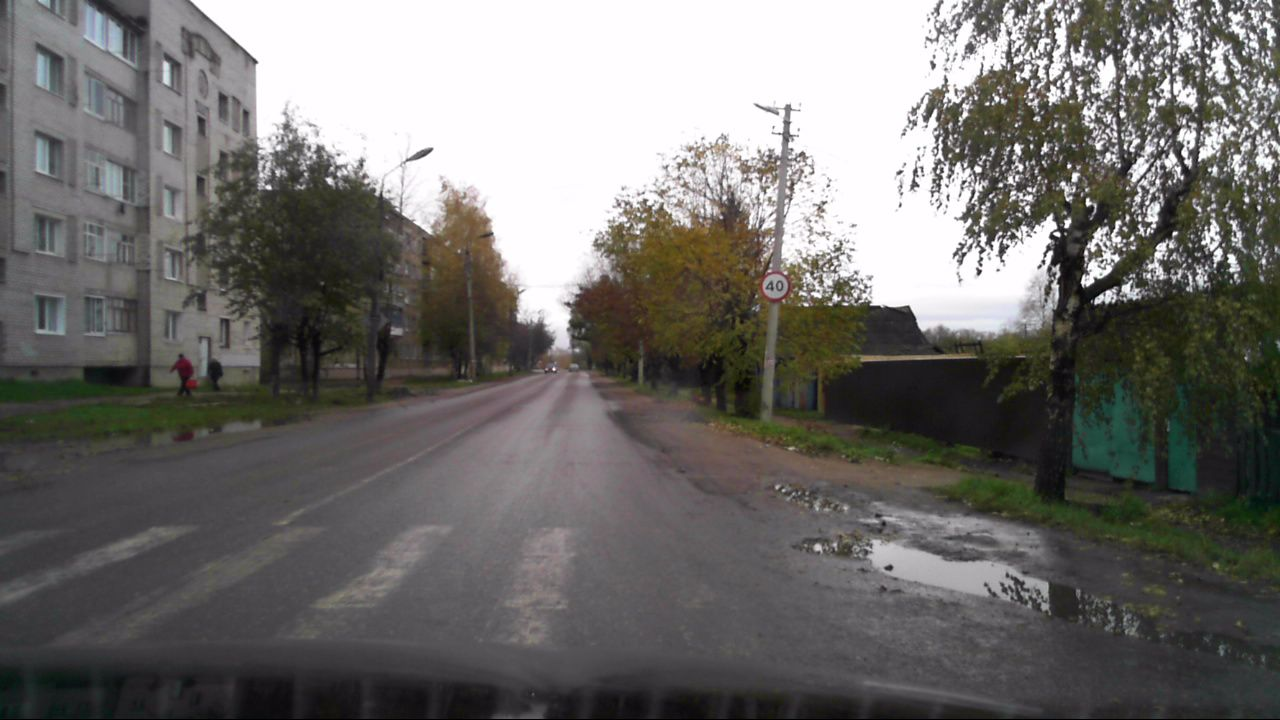speed_warning_40: (759, 270, 790, 302)
